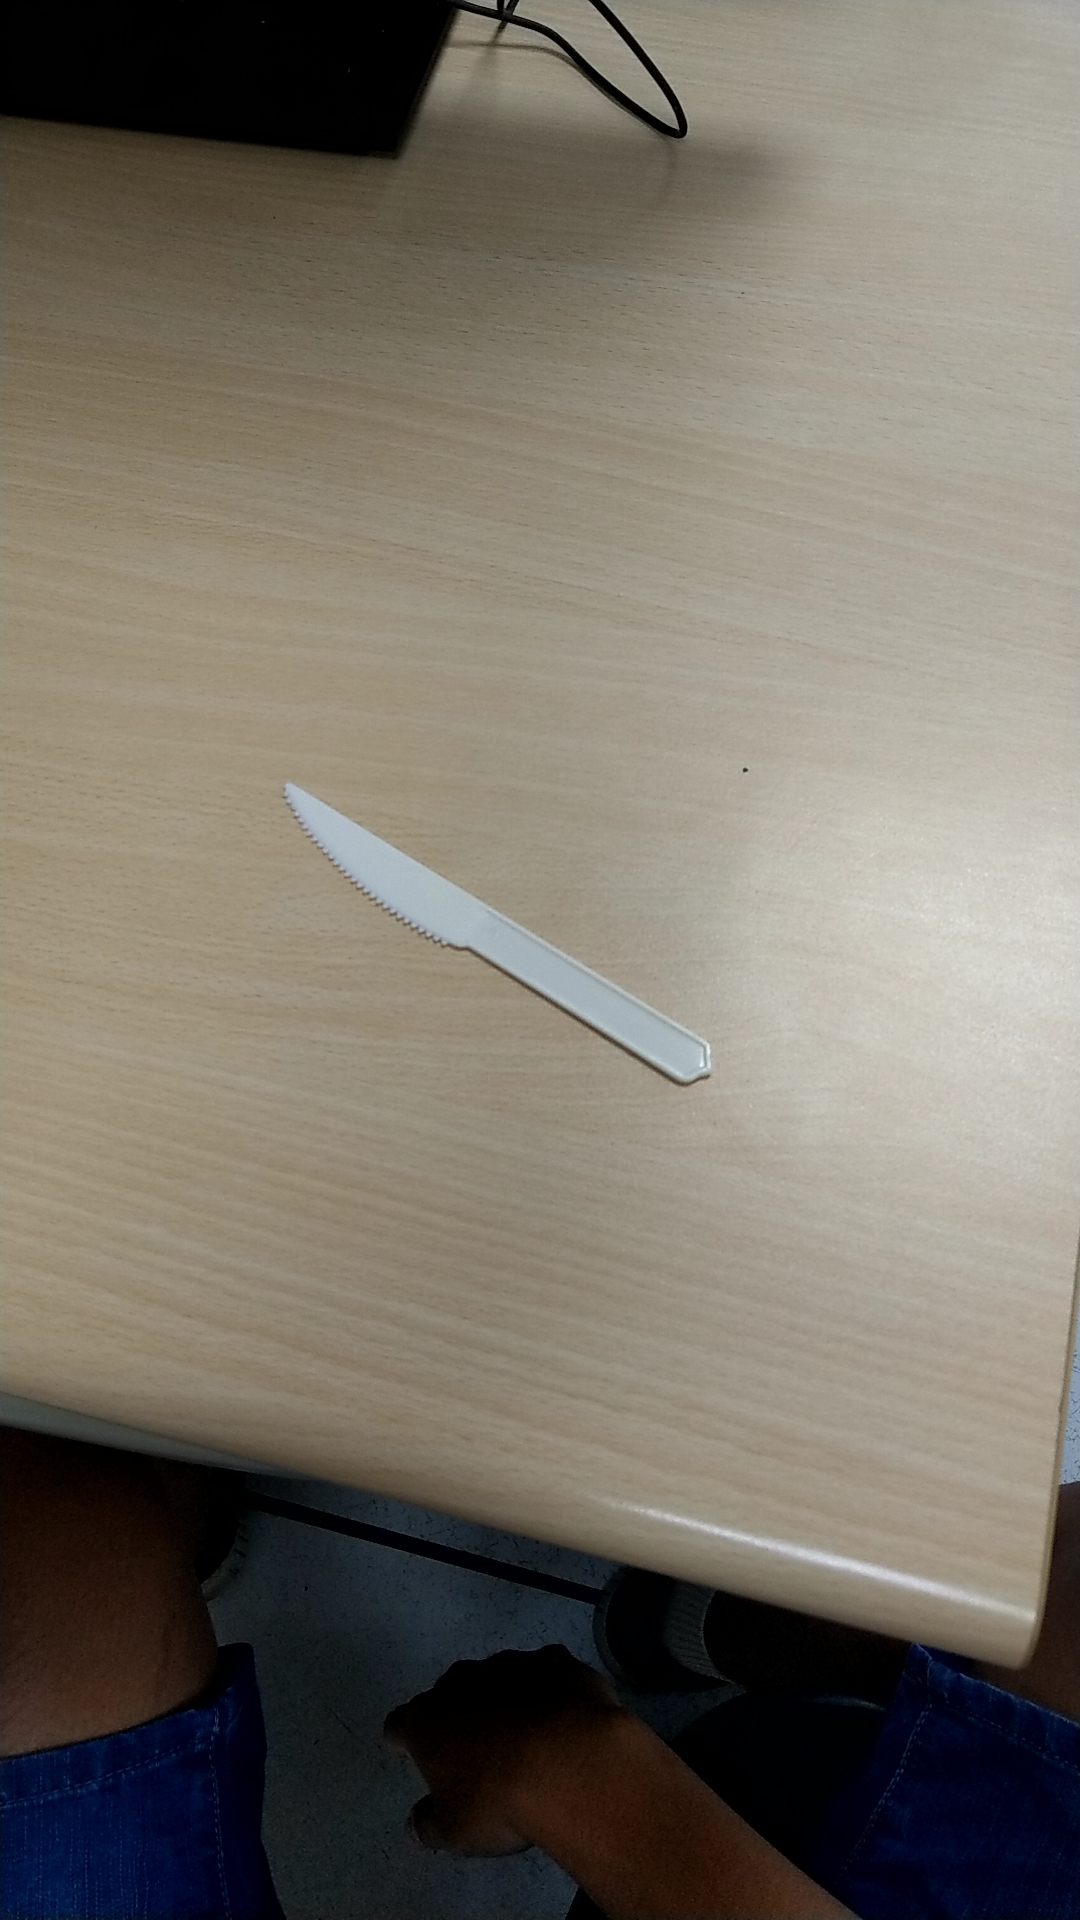knife: (252, 746, 720, 1083)
